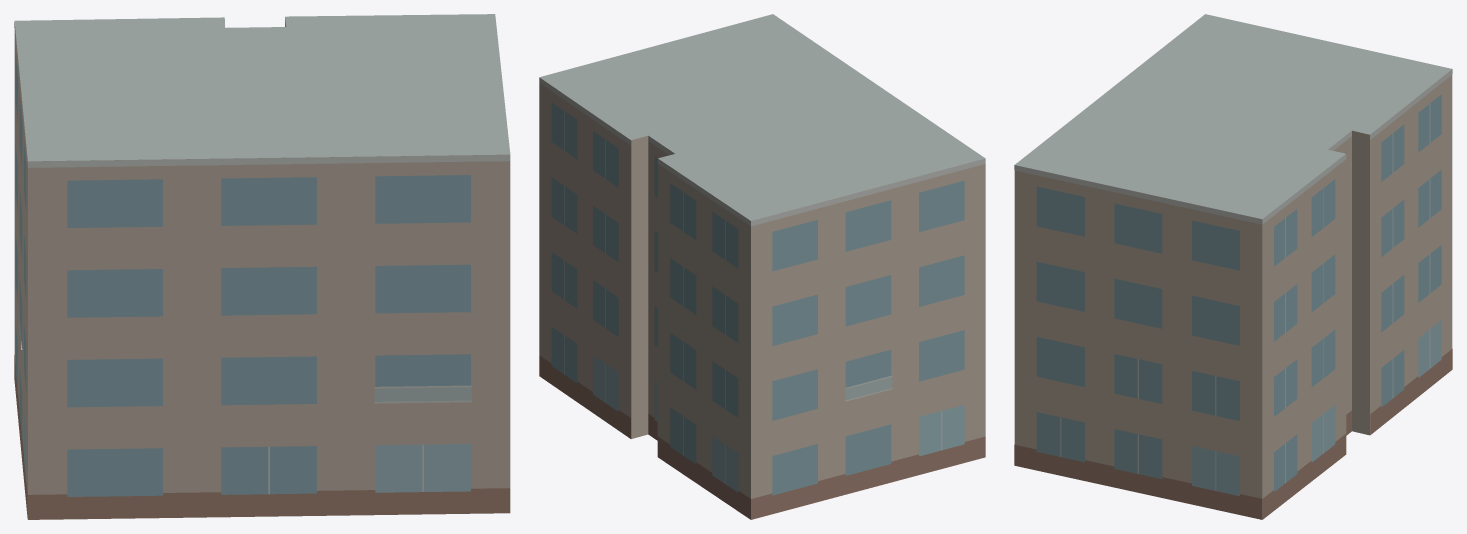
The model's file is survey-upis-32658262.glb.
3 views of the same model, side by side, from view 1: azimuth 30°, elevation 25°; view 2: azimuth 150°, elevation 25°; view 3: azimuth 270°, elevation 25° (orthographic). The views are drawn at different scales.
Parts seen in each view (by area): view 1: survey-upis-32658262.tmp; view 2: survey-upis-32658262.tmp; view 3: survey-upis-32658262.tmp.
Part boxes in pixels (left/top/right/bottom): survey-upis-32658262.tmp: left=14, top=14, right=510, bottom=519; survey-upis-32658262.tmp: left=539, top=14, right=985, bottom=519; survey-upis-32658262.tmp: left=1014, top=14, right=1452, bottom=519.
Bounding box in the file's own units: 19.7 × 13.45 × 17.77.
